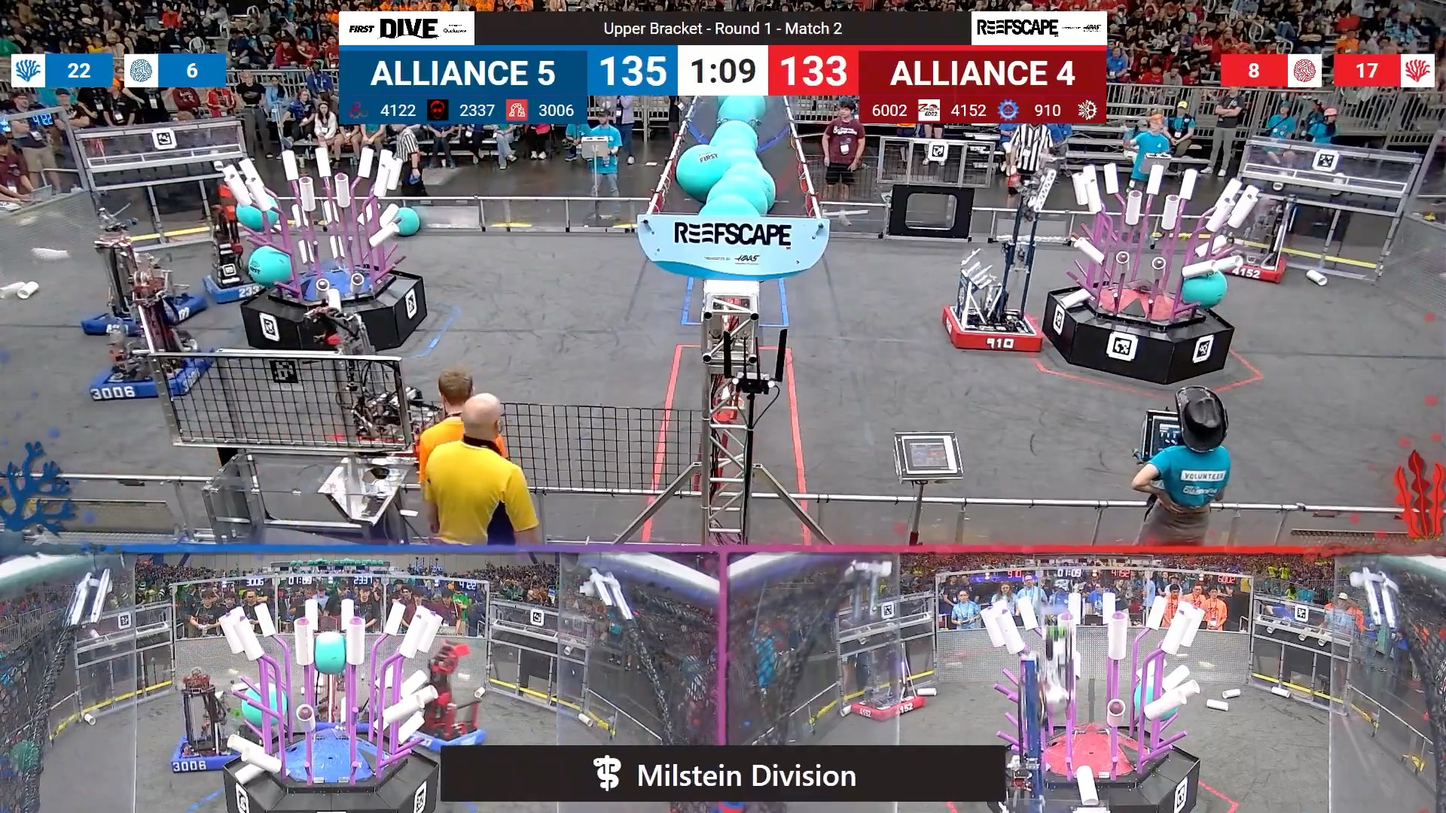bumpers: (85, 345, 212, 404), (938, 302, 1049, 358), (79, 295, 196, 337), (167, 729, 248, 776), (1200, 247, 1293, 286), (398, 717, 494, 749), (844, 689, 932, 723), (200, 269, 273, 305)
